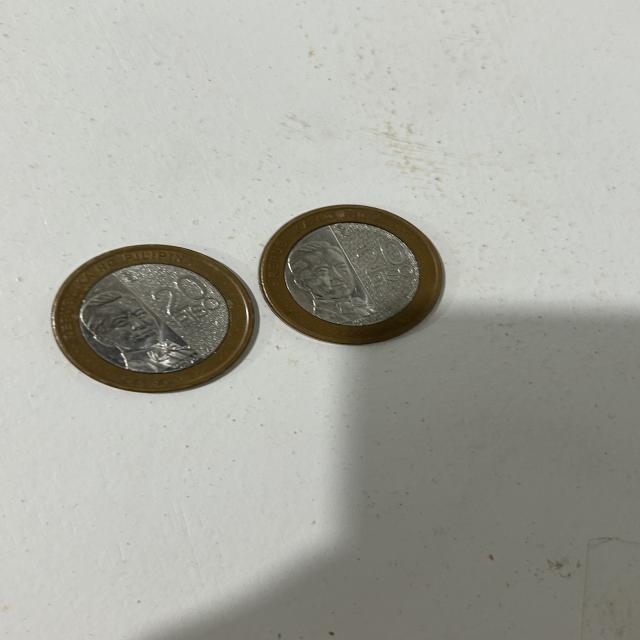20_New_Front: (151, 278, 227, 333), (350, 242, 424, 294)
